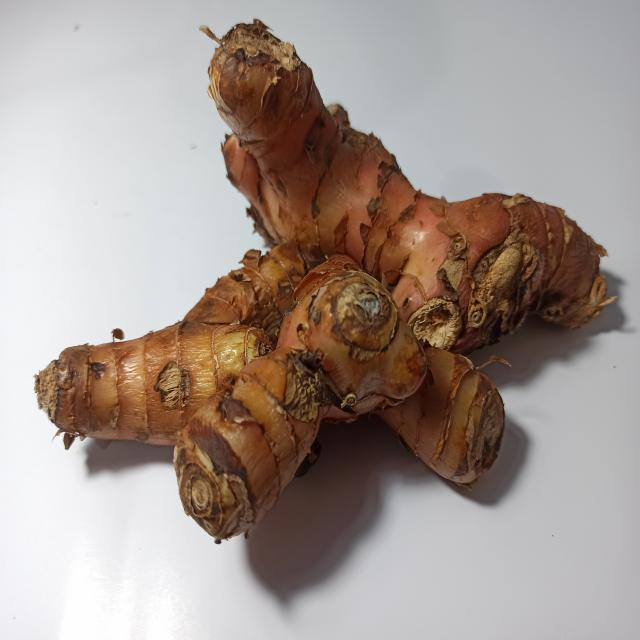ginger: (25, 31, 632, 548)
